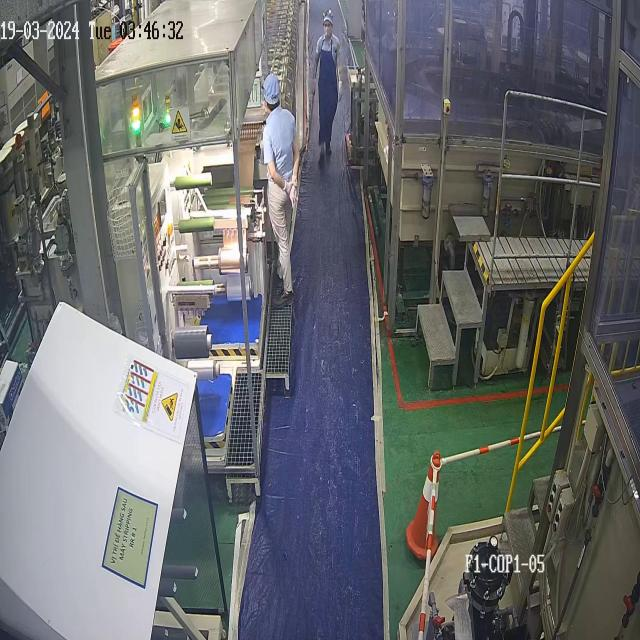Person: (261, 73, 300, 307), (311, 9, 342, 156)
